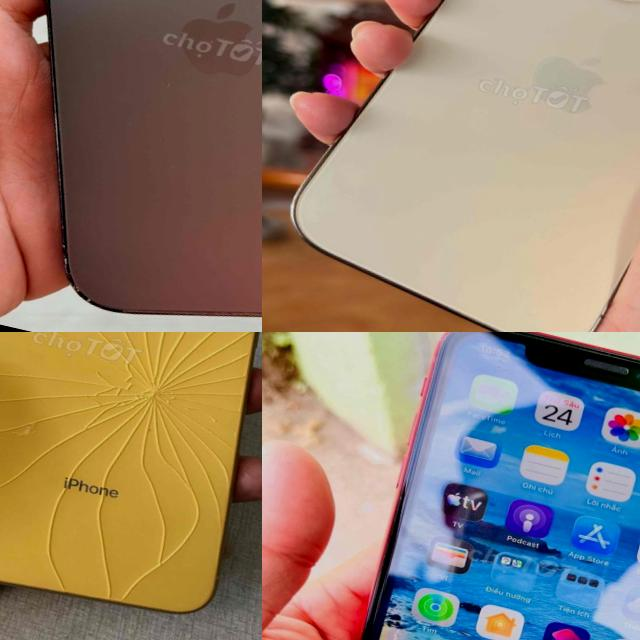physical_damage: (0, 332, 262, 618)
scratch: (28, 85, 96, 202), (41, 244, 101, 310)
